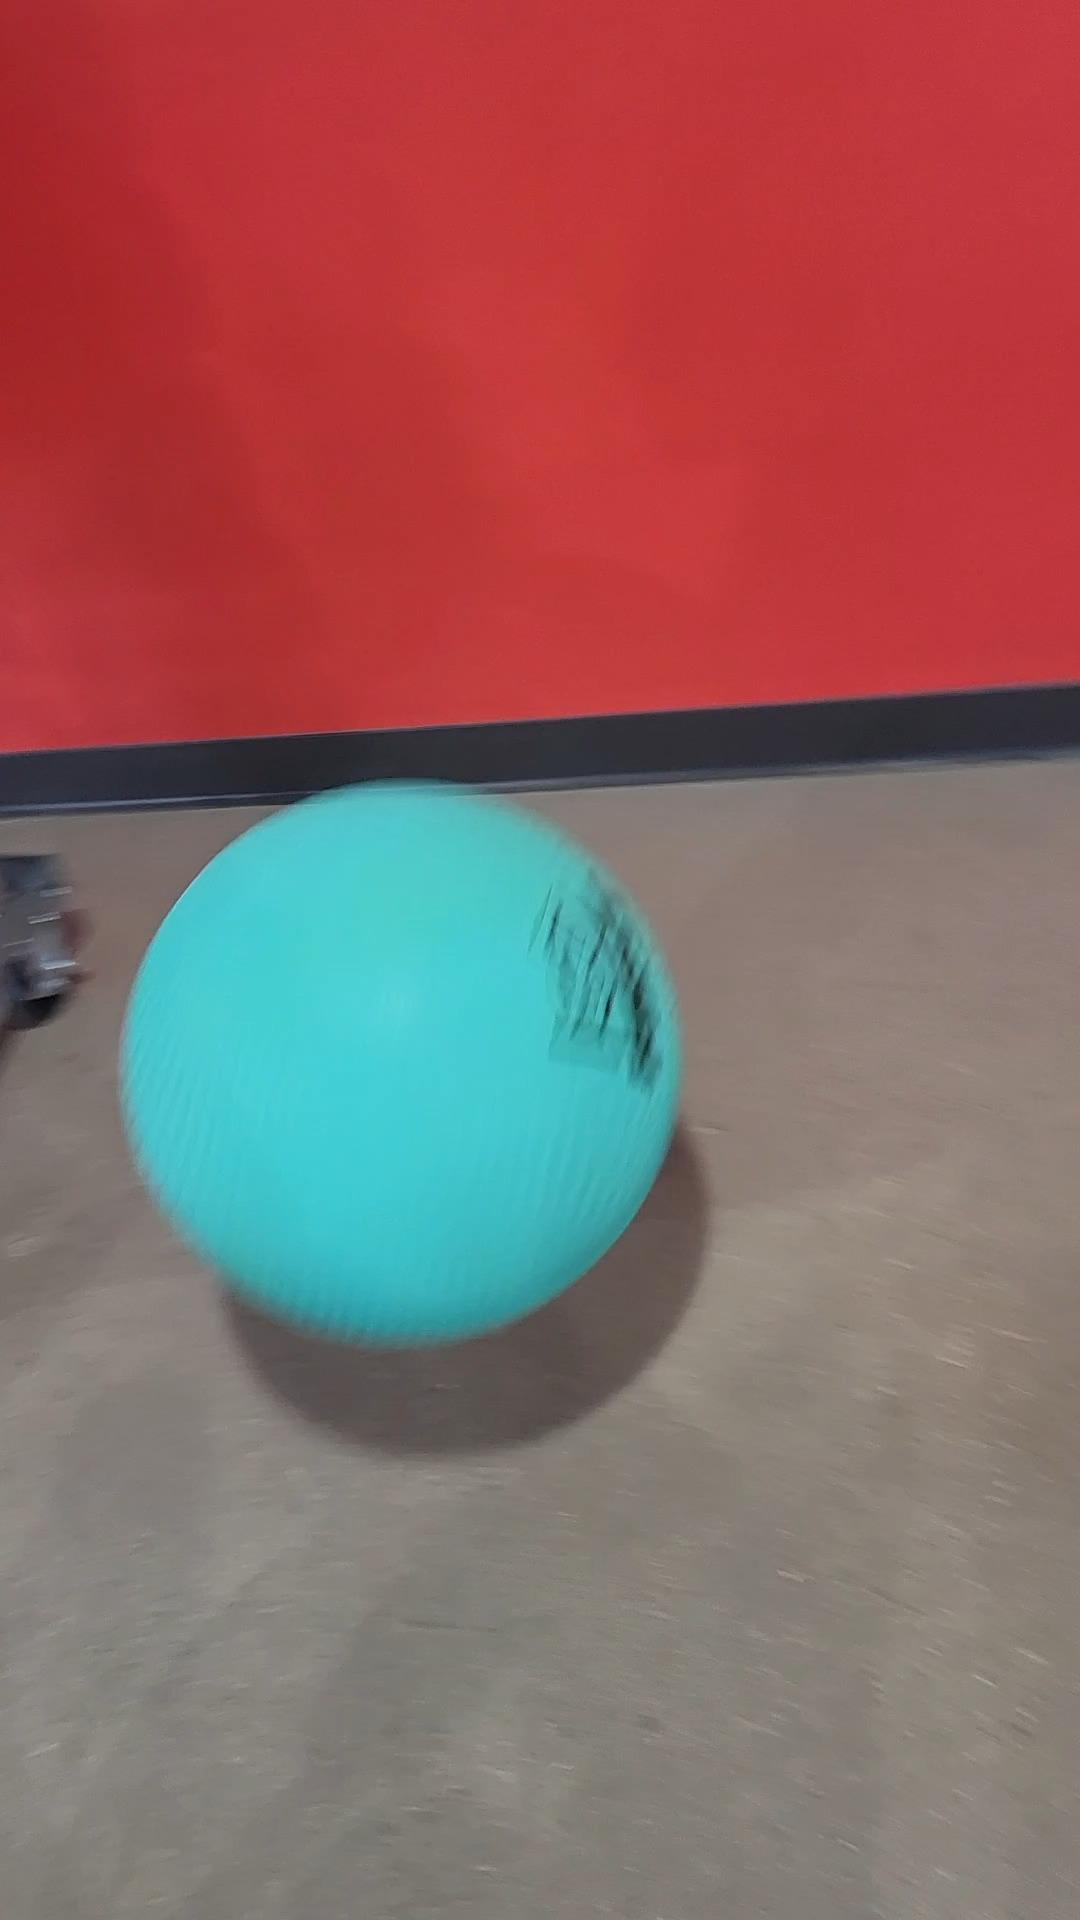algae: (125, 775, 683, 1341)
